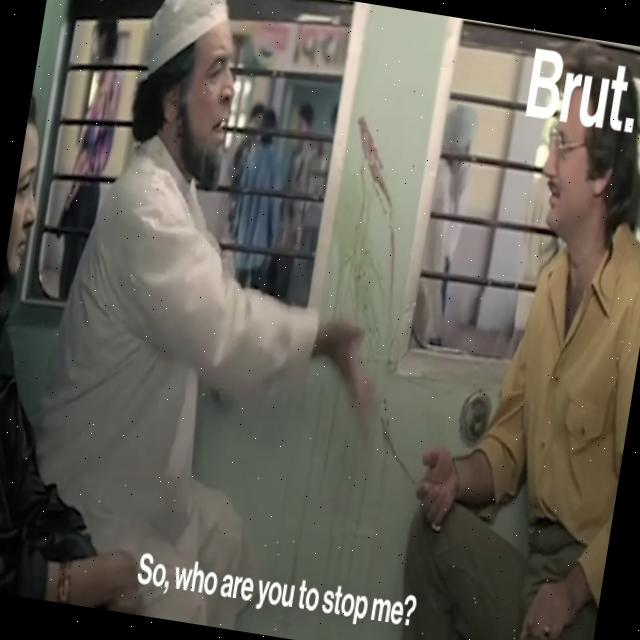spit: (319, 101, 424, 300)
